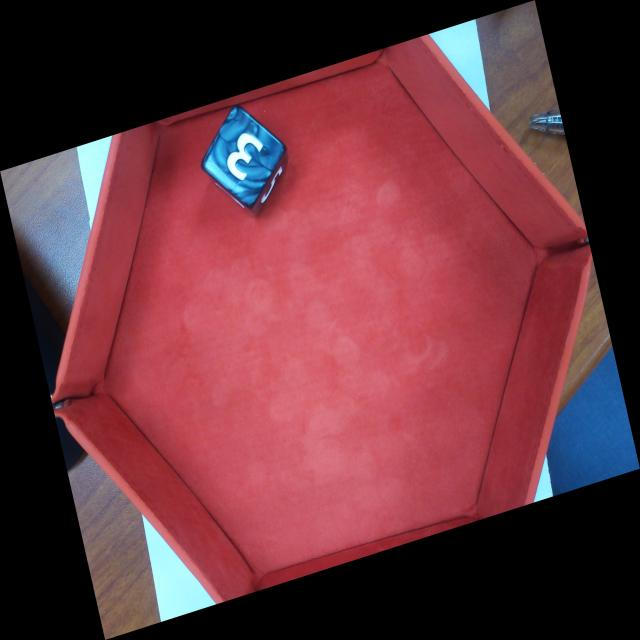dice: (203, 110, 282, 204)
